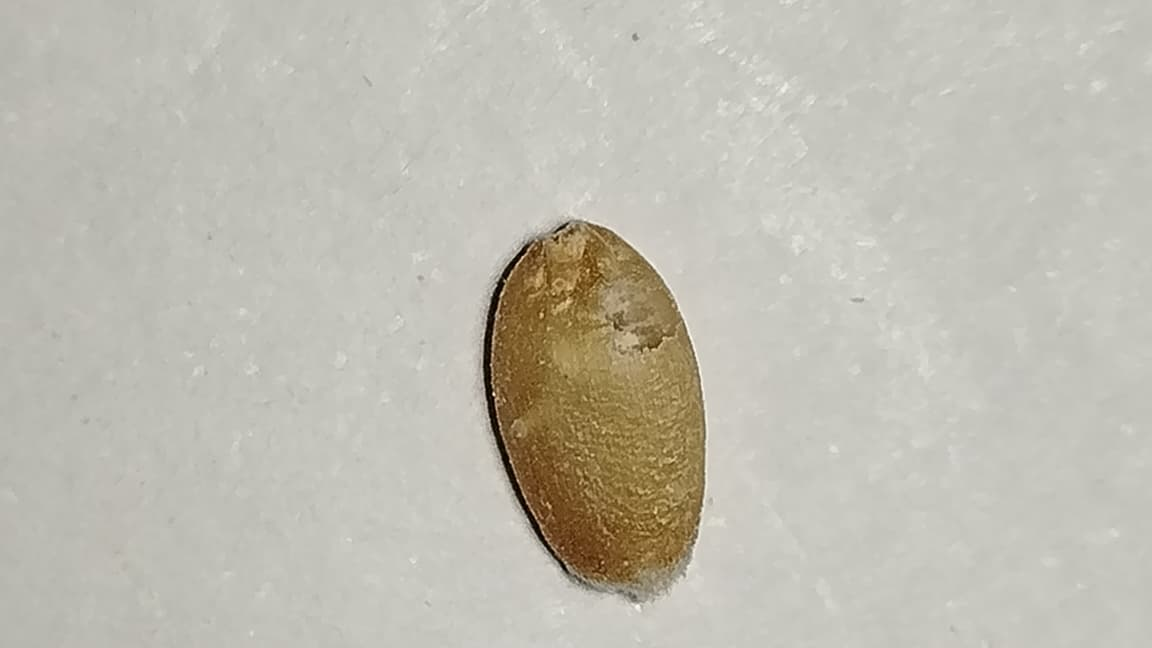damage: (483, 218, 712, 607)
insectdamage: (600, 277, 682, 363)
